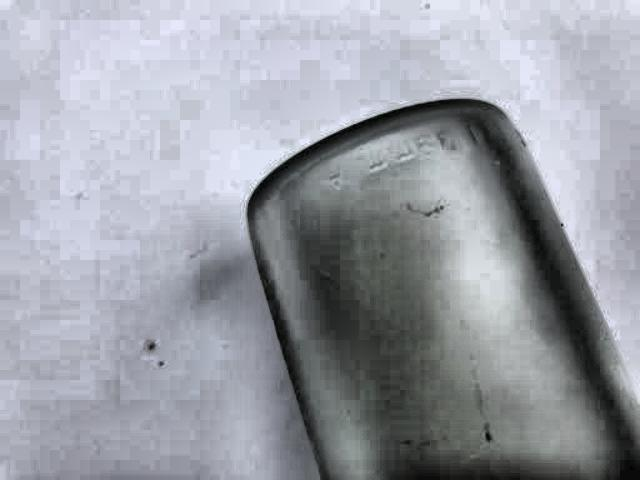Bottles: (233, 74, 640, 480)
